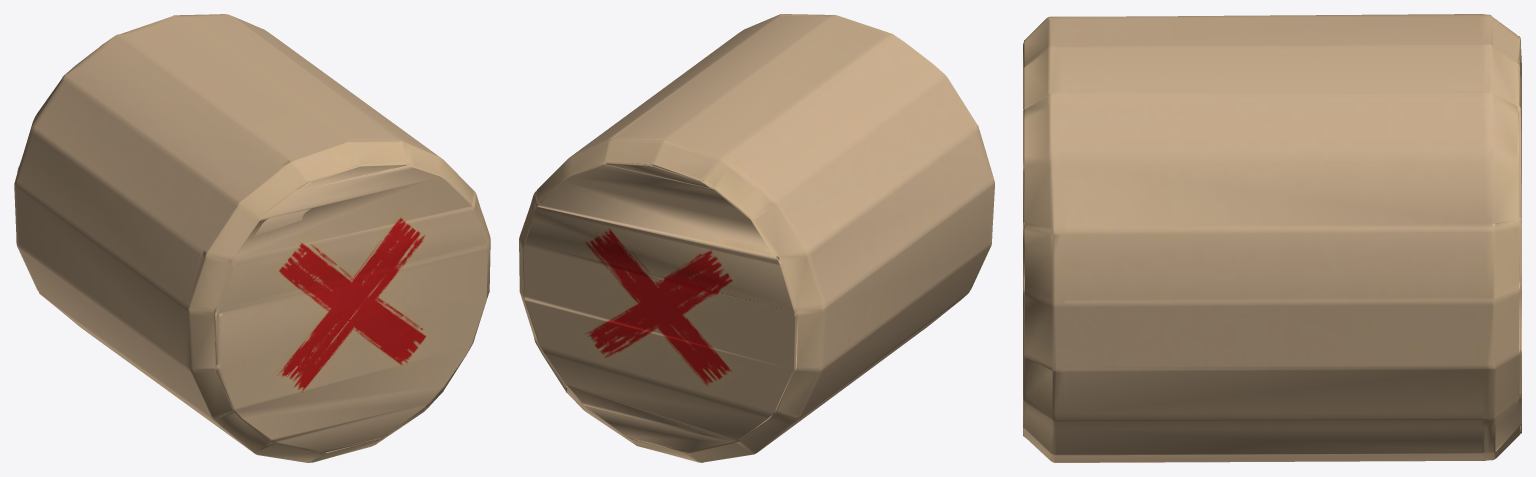
Rendered from 019e5e15-b48e-7625-865d-95b4beafd79d.glb.
3 renders of one model, left to right at view 1: azimuth 30°, elevation 25°; view 2: azimuth 150°, elevation 25°; view 3: azimuth 270°, elevation 25°, orthographic. The views are drawn at different scales.
Parts seen in each view (by area): view 1: tripo_node_3fce0893-f10f-4416-bd5d-4cd377bbab7f; view 2: tripo_node_3fce0893-f10f-4416-bd5d-4cd377bbab7f; view 3: tripo_node_3fce0893-f10f-4416-bd5d-4cd377bbab7f.
Part boxes in pixels (x1=…): tripo_node_3fce0893-f10f-4416-bd5d-4cd377bbab7f: x1=14, y1=14, x2=490, y2=462; tripo_node_3fce0893-f10f-4416-bd5d-4cd377bbab7f: x1=519, y1=14, x2=994, y2=462; tripo_node_3fce0893-f10f-4416-bd5d-4cd377bbab7f: x1=1023, y1=14, x2=1521, y2=462.
Size of the model in its own units: 0.9004 by 0.8809 by 0.998.
Materials: 1 (1 with a texture image).
